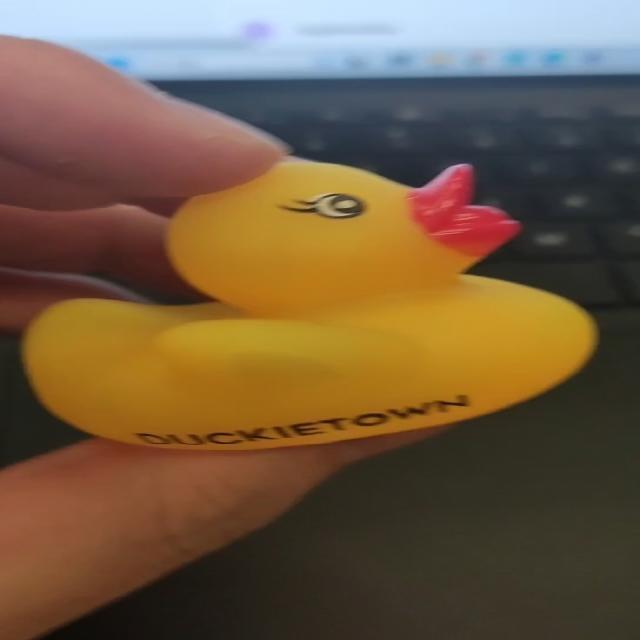rubber-duck: (22, 158, 595, 448)
